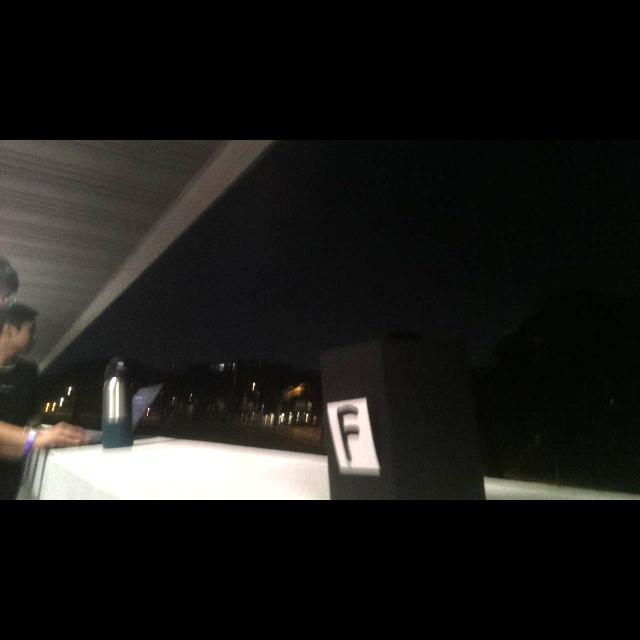F: (336, 405, 360, 462)
